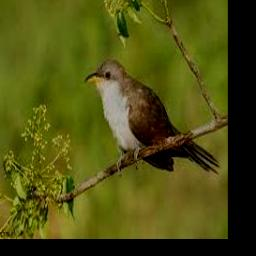Cuckoo: (84, 59, 220, 171)
